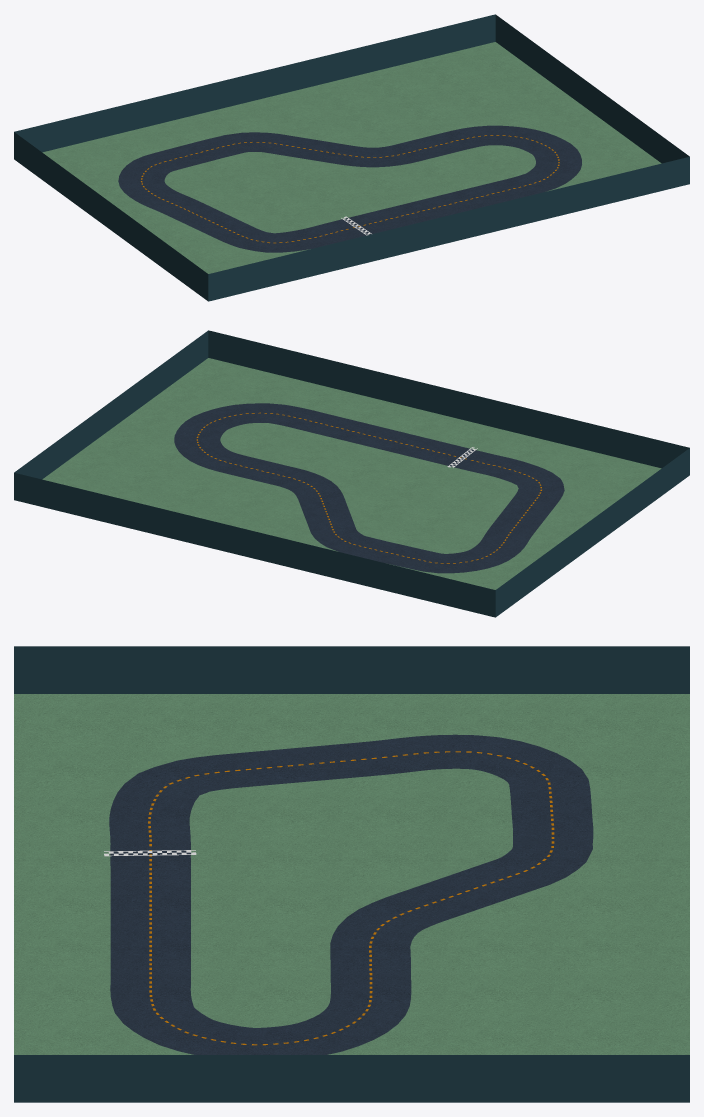
The model's file is reinvent_low_noline.dae.
3 renders of one model, top to bottom at view 1: azimuth 30°, elevation 25°; view 2: azimuth 150°, elevation 25°; view 3: azimuth 270°, elevation 25°, orthographic. The views are drawn at different scales.
Parts seen in each view (by area): view 1: field, wall, road, cl; view 2: field, wall, road, cl; view 3: field, wall, road, cl.
Boxes of the visible parts, x1=… form: field: x1=42, y1=42, x2=661, y2=273; wall: x1=14, y1=14, x2=689, y2=301; road: x1=118, y1=125, x2=581, y2=252; cl: x1=141, y1=135, x2=559, y2=243; field: x1=42, y1=358, x2=661, y2=589; wall: x1=14, y1=330, x2=689, y2=617; road: x1=174, y1=403, x2=564, y2=573; cl: x1=196, y1=412, x2=541, y2=563; field: x1=14, y1=694, x2=689, y2=1054; wall: x1=14, y1=646, x2=689, y2=1102; road: x1=109, y1=734, x2=593, y2=1054; cl: x1=148, y1=751, x2=554, y2=1045.
Bounding box in the file's own units: 9.16 × 6.41 × 0.5.
Materials: 4 (4 with a texture image).
